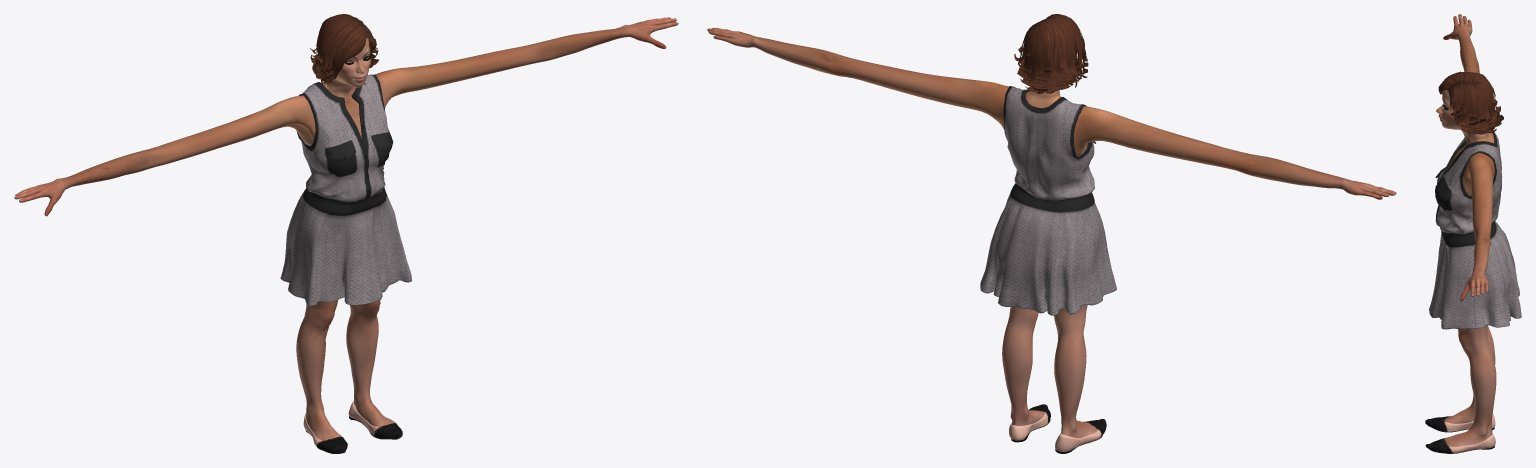
Rendered from bigArms.obj.
The picture shows the model from 3 angles, left to right: view 1: azimuth 30°, elevation 25°; view 2: azimuth 150°, elevation 25°; view 3: azimuth 270°, elevation 25°; orthographic projection. The views are drawn at different scales.
Parts seen in each view (by area): view 1: Body, Tops, Hair, Shoes; view 2: Body, Tops, Hair, Shoes; view 3: Tops, Body, Hair, Shoes.
Part boxes in pixels (x1,y1,x2,y2): Body: (14, 17, 678, 440); Tops: (280, 74, 411, 306); Hair: (310, 14, 378, 85); Shoes: (303, 401, 402, 453); Body: (707, 27, 1396, 438); Tops: (980, 86, 1116, 315); Hair: (1014, 14, 1088, 93); Shoes: (1009, 404, 1106, 453); Tops: (1429, 130, 1521, 329); Body: (1436, 14, 1496, 446); Hair: (1438, 71, 1503, 134); Shoes: (1425, 413, 1495, 453).
Bounding box in the file's own units: 274 × 162 × 39.
1 material, 1 textured.
